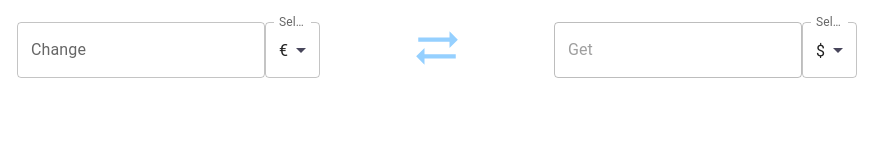
Scenario: <Converter /> › Field amount to convert should be invalid when enter string
Type "twenty five" into the field labelled "Change".
click(141, 50); type("twenty five")  # box x1=17 y1=22 x2=265 y2=78
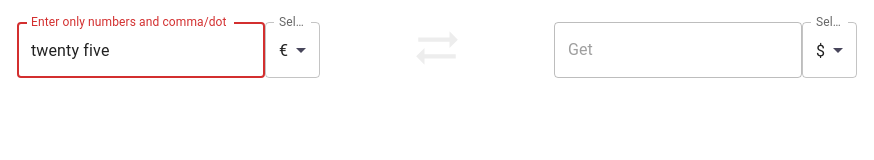
Expected: the label labelled "Change" is gone
